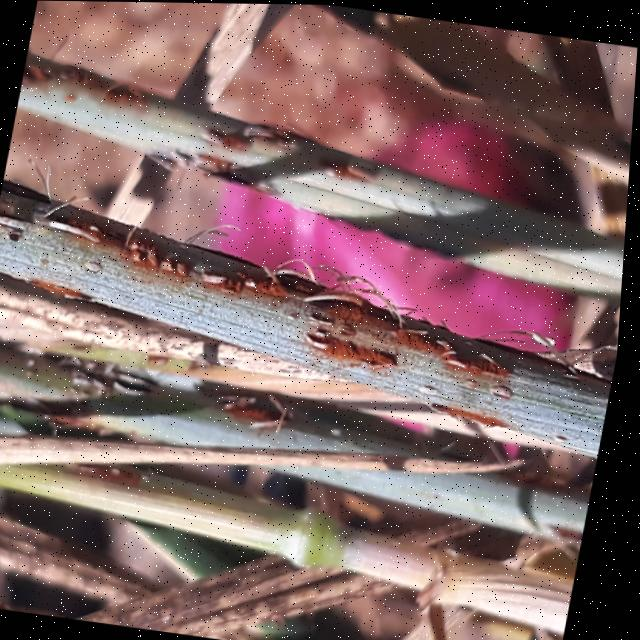black_stem_rust: (0, 22, 639, 640)
